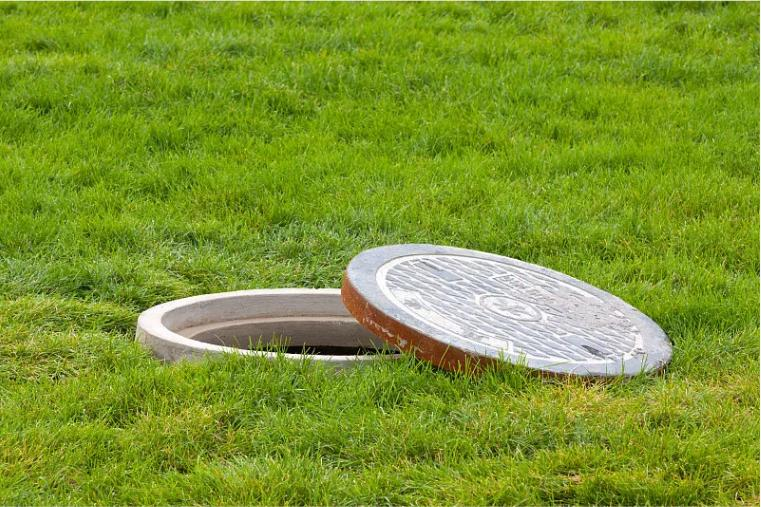wellcover: (101, 248, 691, 410)
